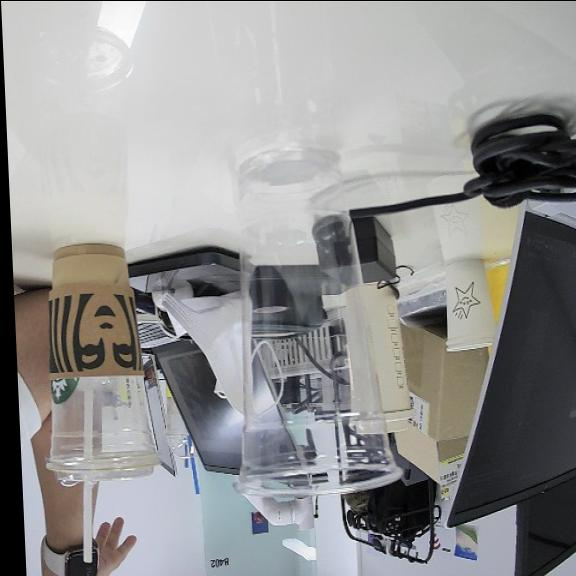Plastik: (234, 149, 399, 492)
